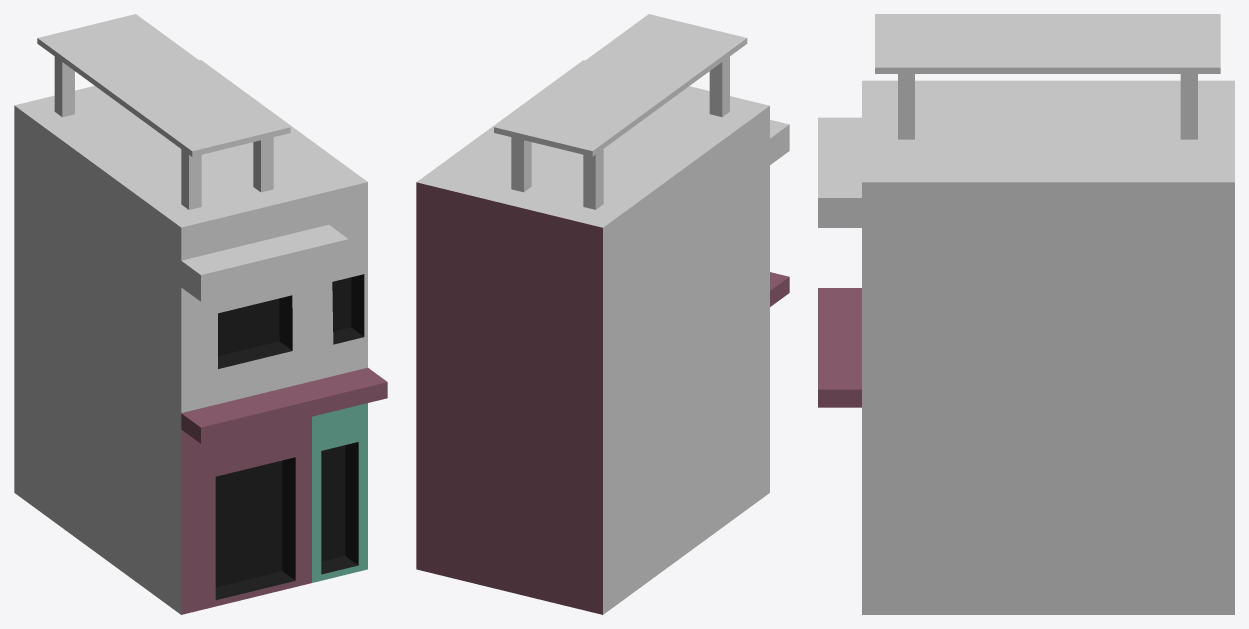
The model's file is loja_20.fbx.
3 views of the same model, side by side, from view 1: azimuth 30°, elevation 25°; view 2: azimuth 150°, elevation 25°; view 3: azimuth 270°, elevation 25° (orthographic). The views are drawn at different scales.
Visible parts, largest first — view 1: Cube; view 2: Cube; view 3: Cube.
Part boxes in pixels (box(x1,y1,x2,y2)): Cube: box(14, 14, 387, 614); Cube: box(416, 14, 789, 614); Cube: box(818, 14, 1234, 614).
Bounding box in the file's own units: 547 × 1276 × 948.
